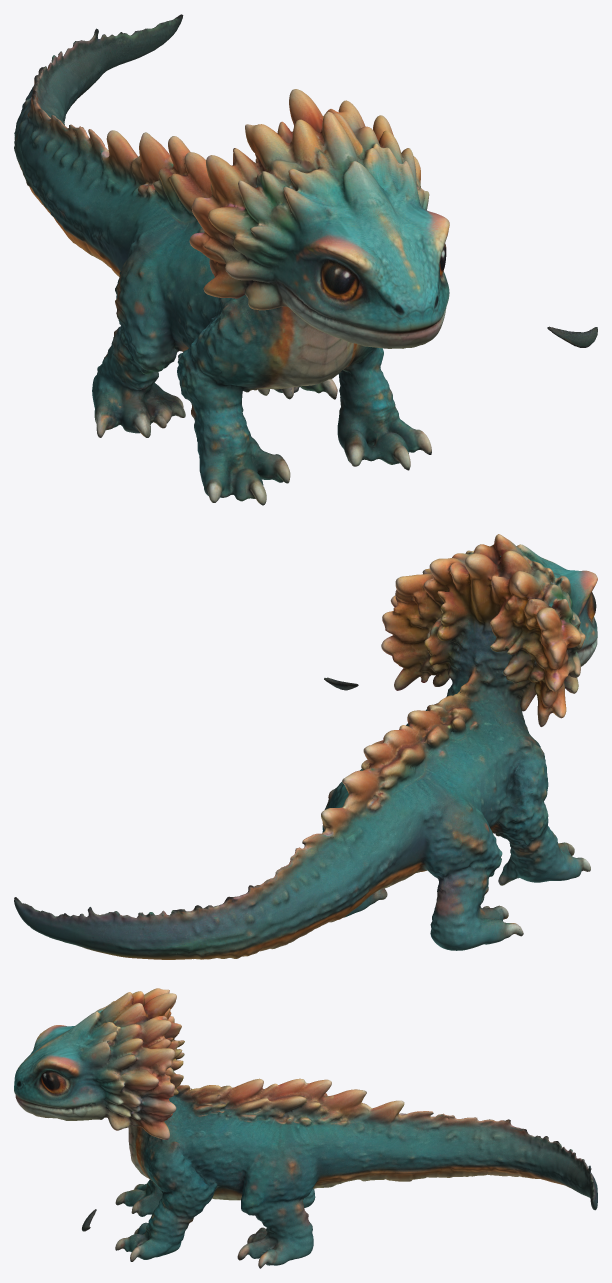
File: coral-gecko-meshy5-original.glb
The picture shows the model from 3 angles, top to bottom: view 1: azimuth 30°, elevation 25°; view 2: azimuth 150°, elevation 25°; view 3: azimuth 270°, elevation 25°; orthographic projection. The views are drawn at different scales.
Bounding box in the file's own units: 0.935 × 0.9137 × 2.
Materials: 1 (1 with a texture image).
